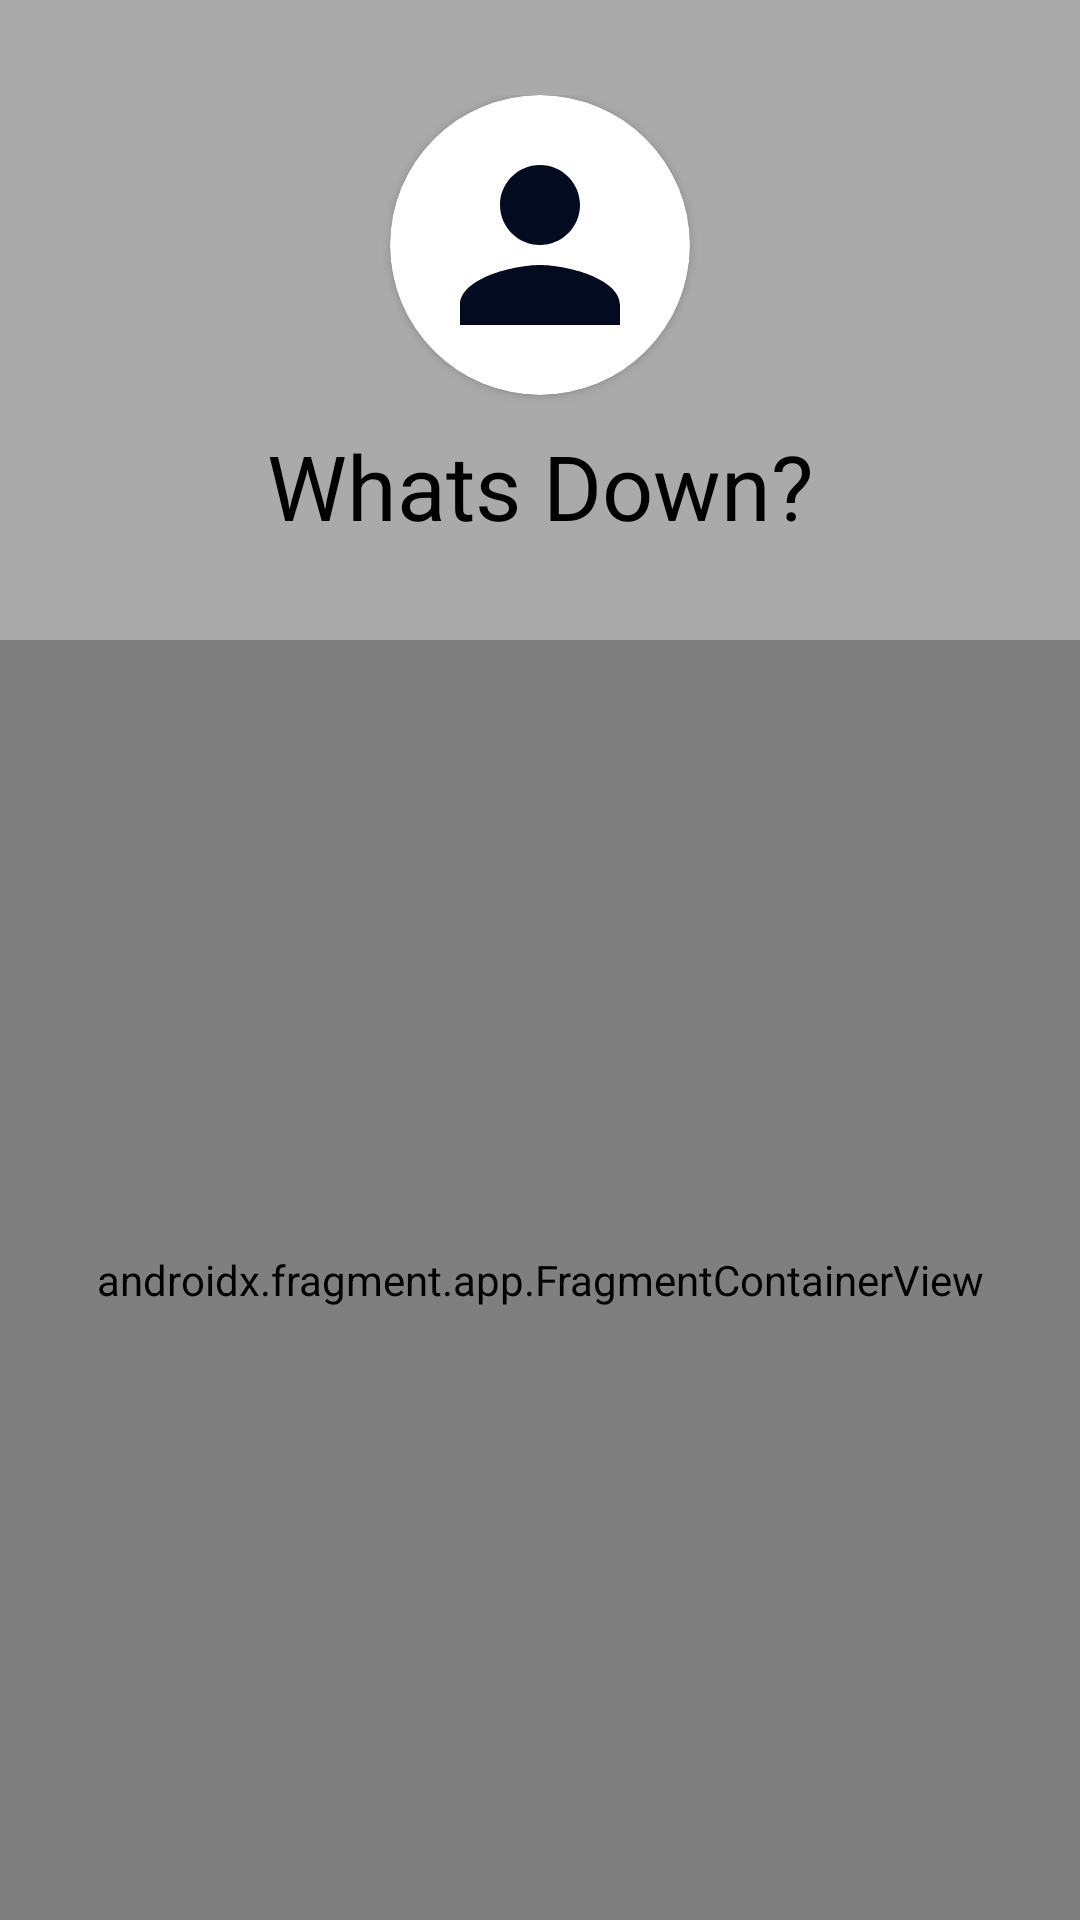

Icons on this 1080px x 1920px Android screen, each with the point to tap as (x,y):
person: (540,245)
